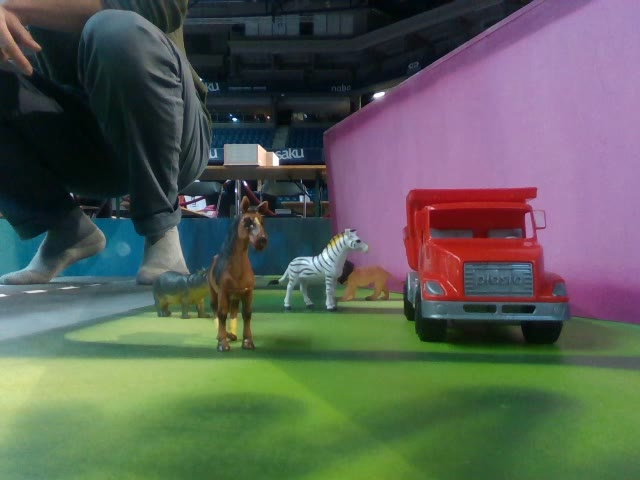toy: (211, 194, 274, 356), (274, 221, 374, 316)
